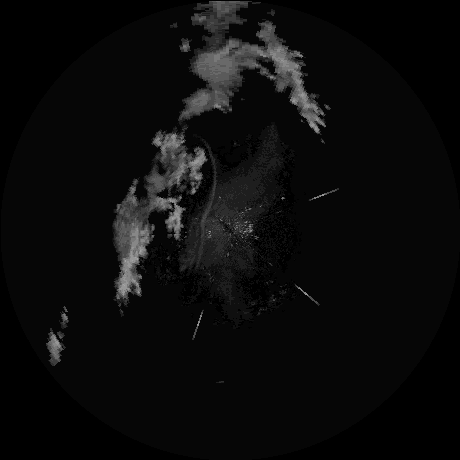frontgust: (205, 144, 219, 214), (197, 215, 208, 269)
